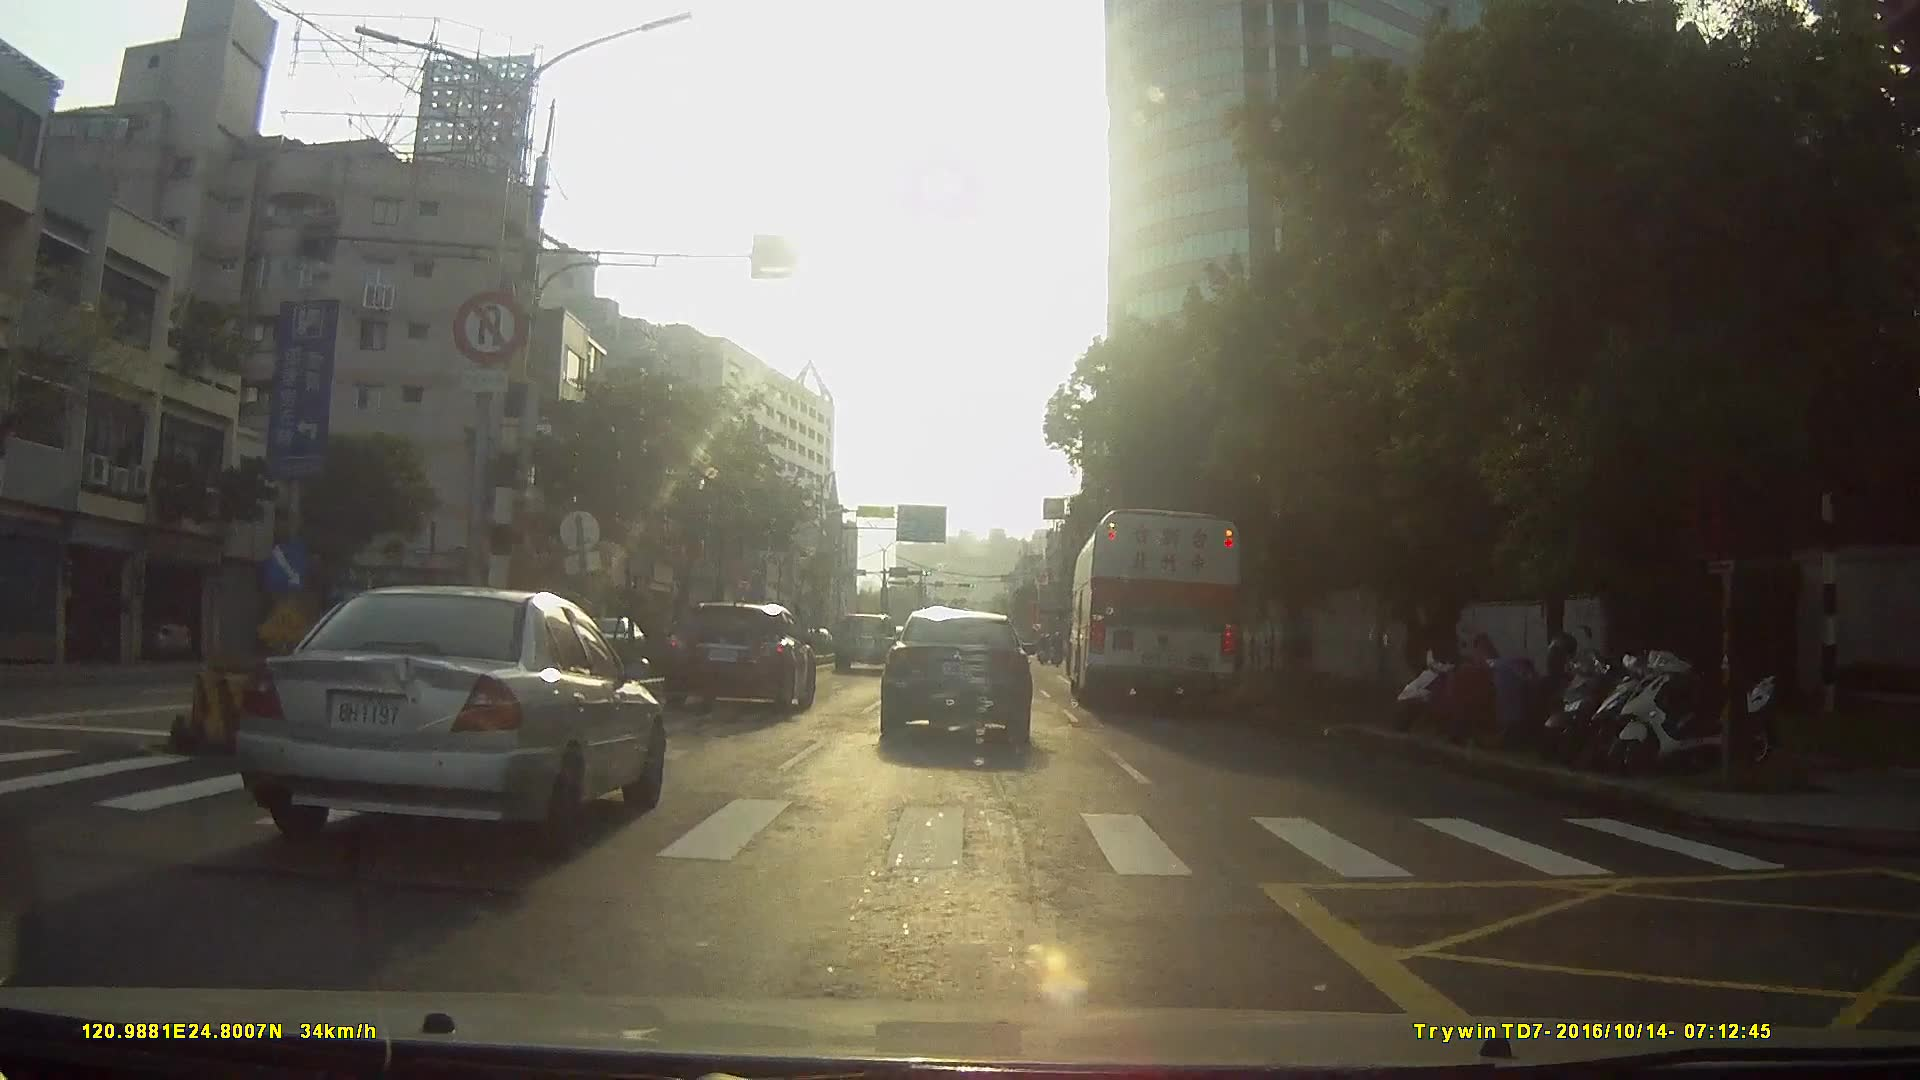vehicle: (225, 582, 659, 857), (1068, 505, 1244, 713), (878, 611, 1033, 752), (665, 603, 818, 720), (832, 611, 899, 673)
